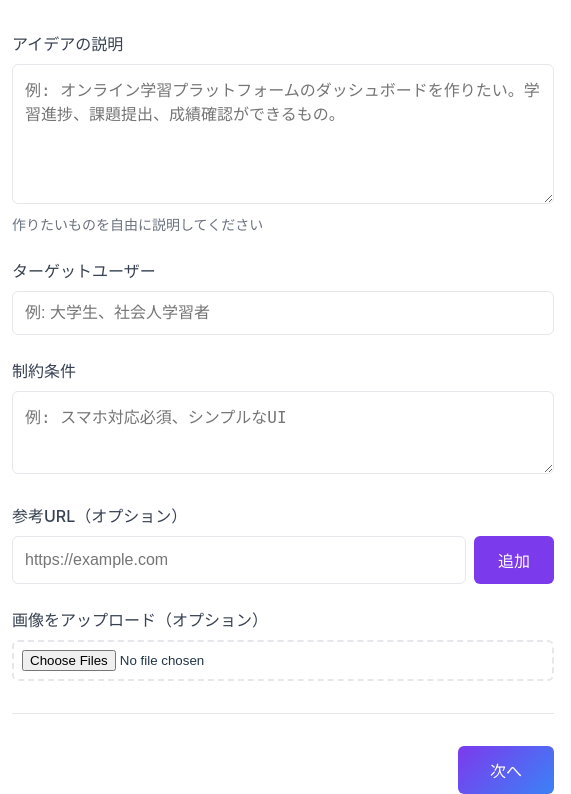
Test: Phase 1: アイデア入力インターフェース › 入力検証 › アイデア説明が空の場合、エラーメッセージが表示される
The image size is (571, 794).
(page scrolled)
Click the button "次へ" at (506,770), box [458,746,554,793]
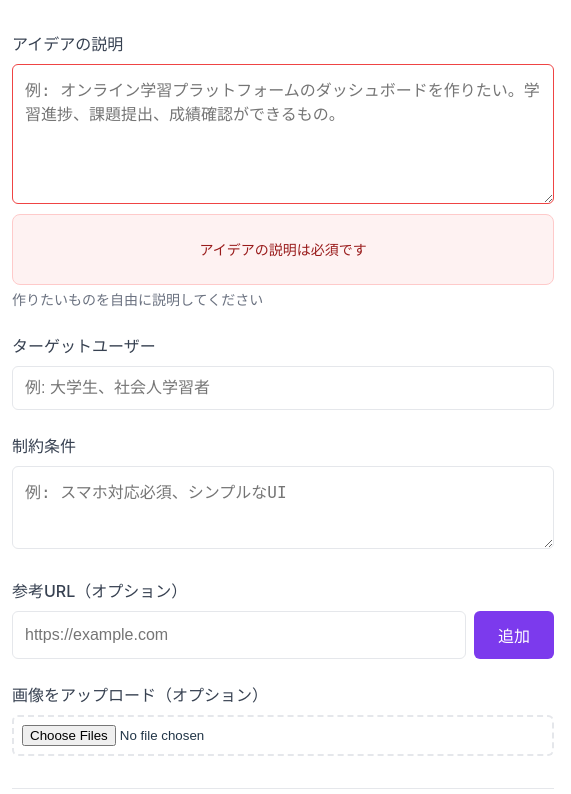
Expected: the text "アイデアの説明は必須です" is shown, [12,214,554,285]
